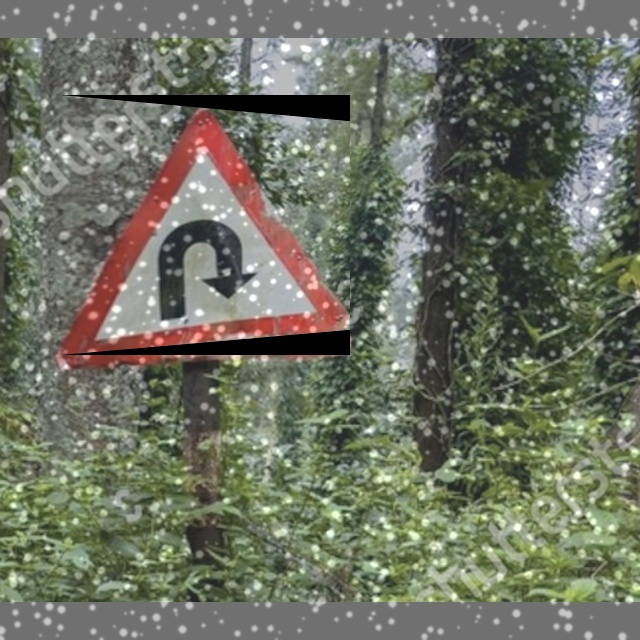Right_Hair_Pin_Bend: (60, 95, 350, 355)
